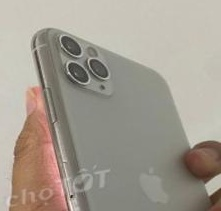scratch: (53, 118, 122, 211)
